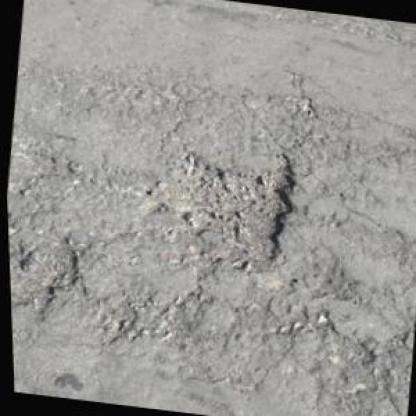pothole: (148, 136, 308, 277), (22, 236, 86, 315)
